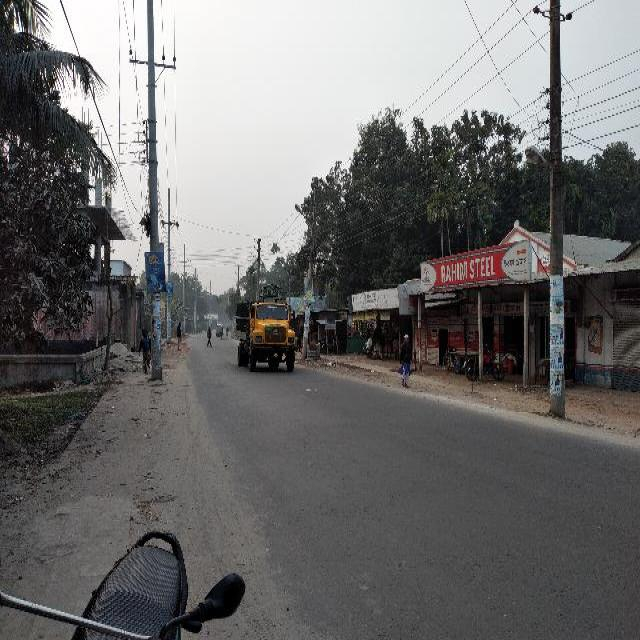10: (1, 510, 251, 639), (461, 343, 505, 382), (321, 339, 343, 354)
18: (234, 283, 298, 373)
Car: (215, 322, 223, 338)
Motorcycle: (226, 324, 228, 336)
